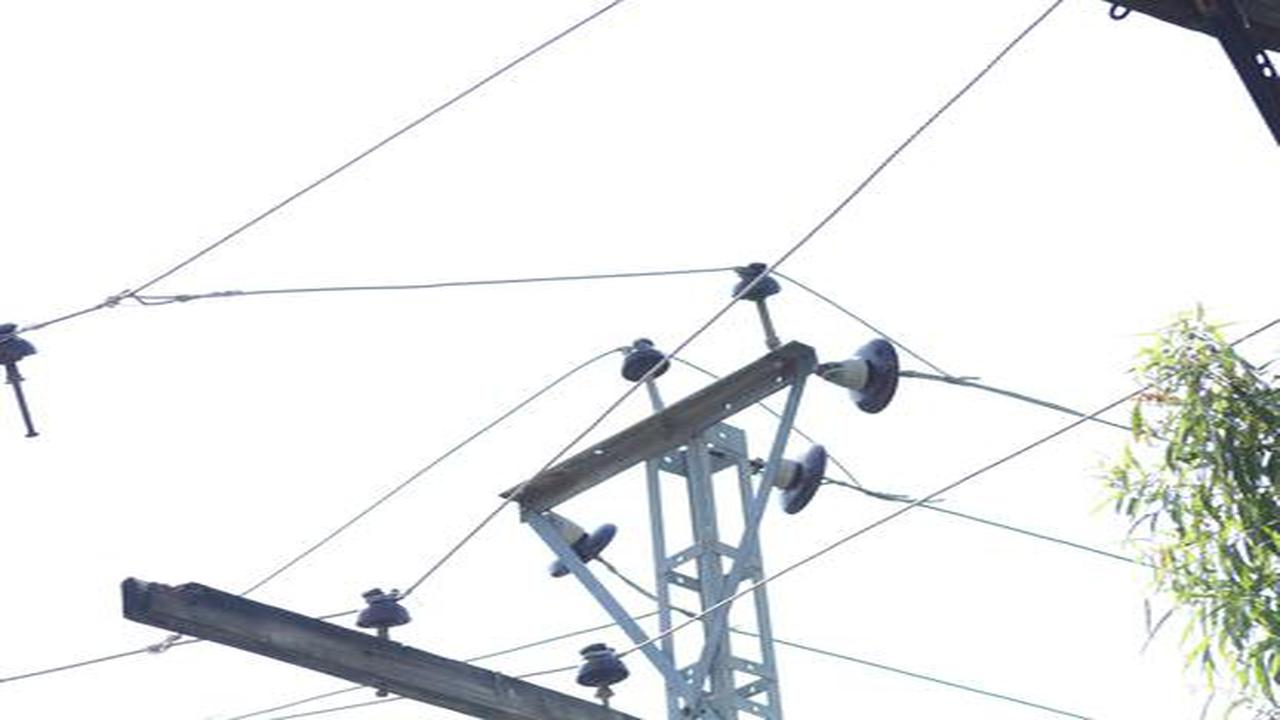insulator_disc: (813, 329, 905, 426), (751, 452, 841, 518), (545, 520, 620, 580)
insulator_pin: (568, 637, 637, 701), (611, 333, 679, 395), (350, 582, 423, 635), (723, 255, 784, 309)
